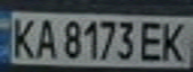1: (81, 17, 100, 60)
3: (115, 17, 139, 62)
7: (97, 17, 118, 61)
8: (60, 16, 81, 60)
A: (30, 15, 60, 60)
E: (136, 18, 169, 62)
K: (157, 18, 193, 63), (6, 15, 39, 60)
